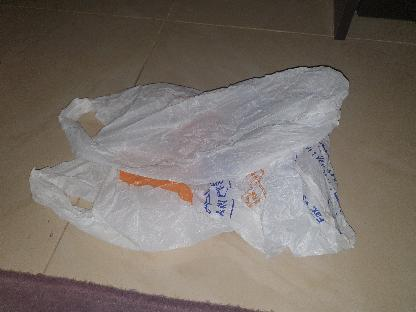Plastic Bag: (30, 65, 356, 260)
